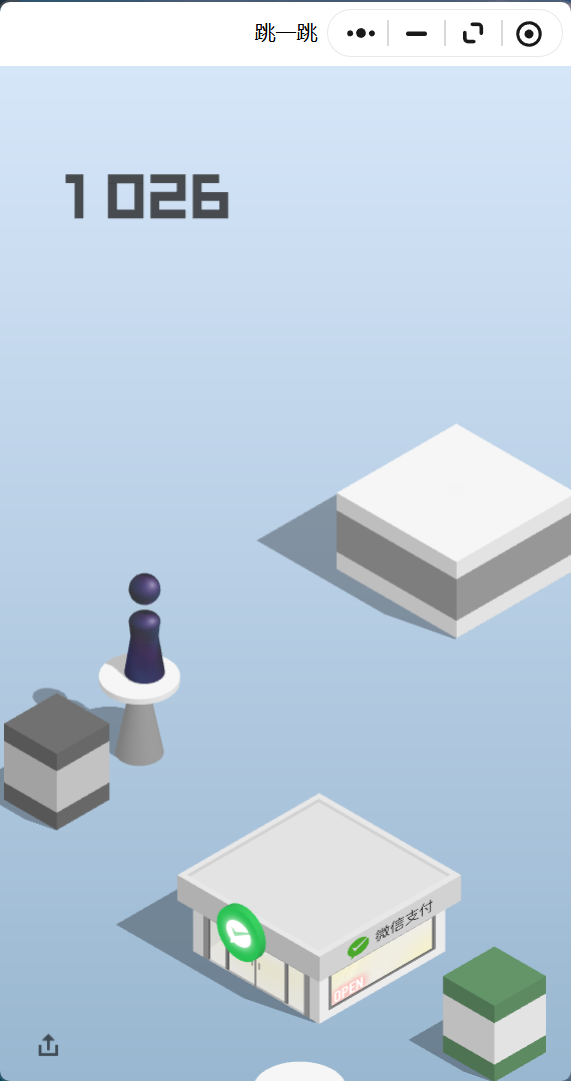piece: (128, 573, 160, 679)
target: (336, 423, 571, 561)
